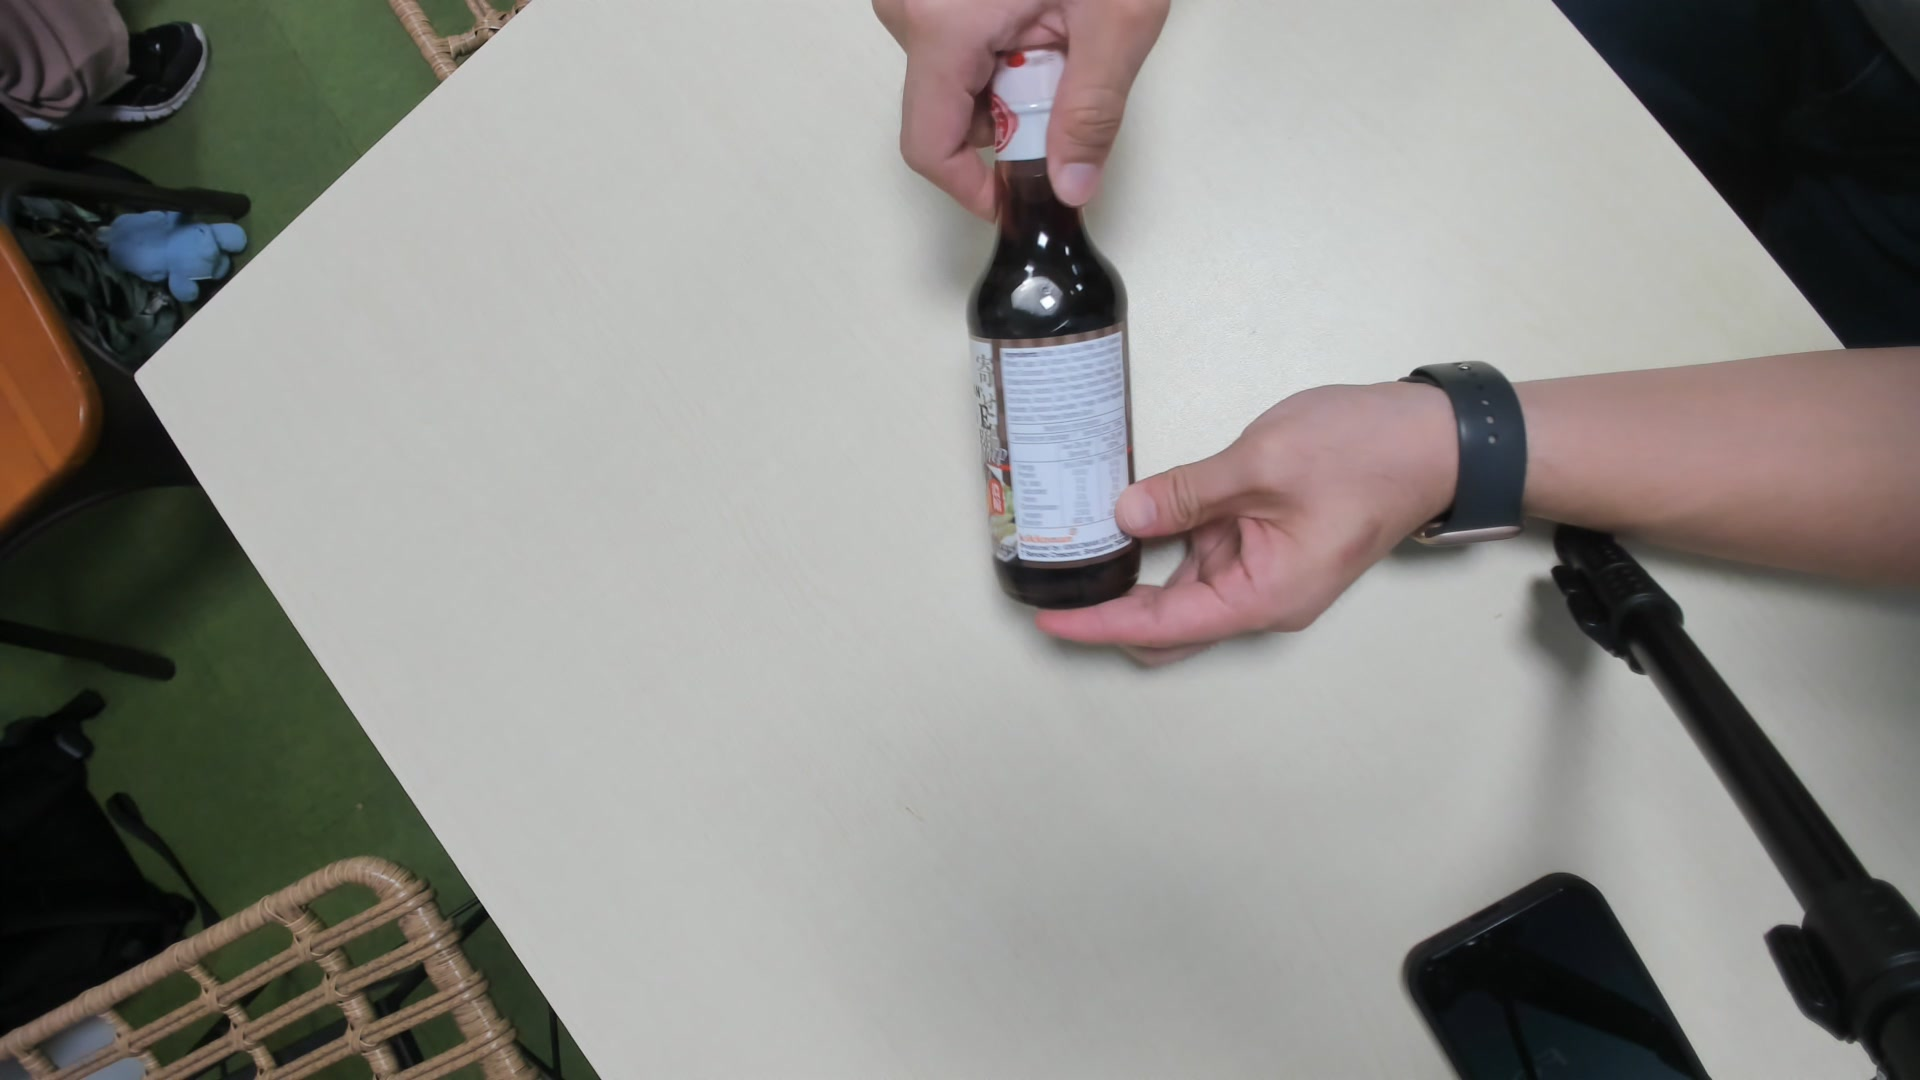OtherSauceDressing_200-299g_NonHalal_NonHealthy: (972, 32, 1141, 608)
